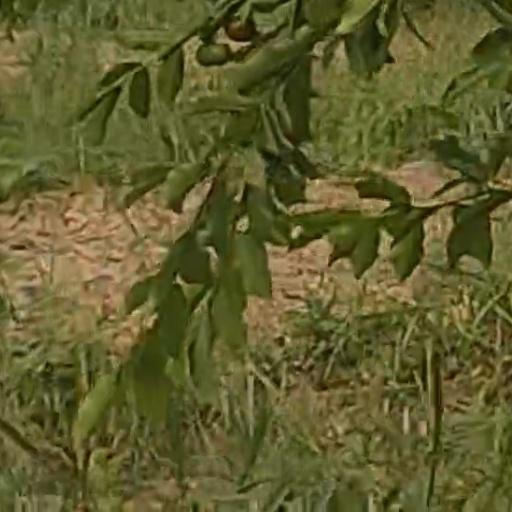acerola_verde: (194, 45, 228, 64)
acerola_vermelha: (224, 20, 254, 43)
